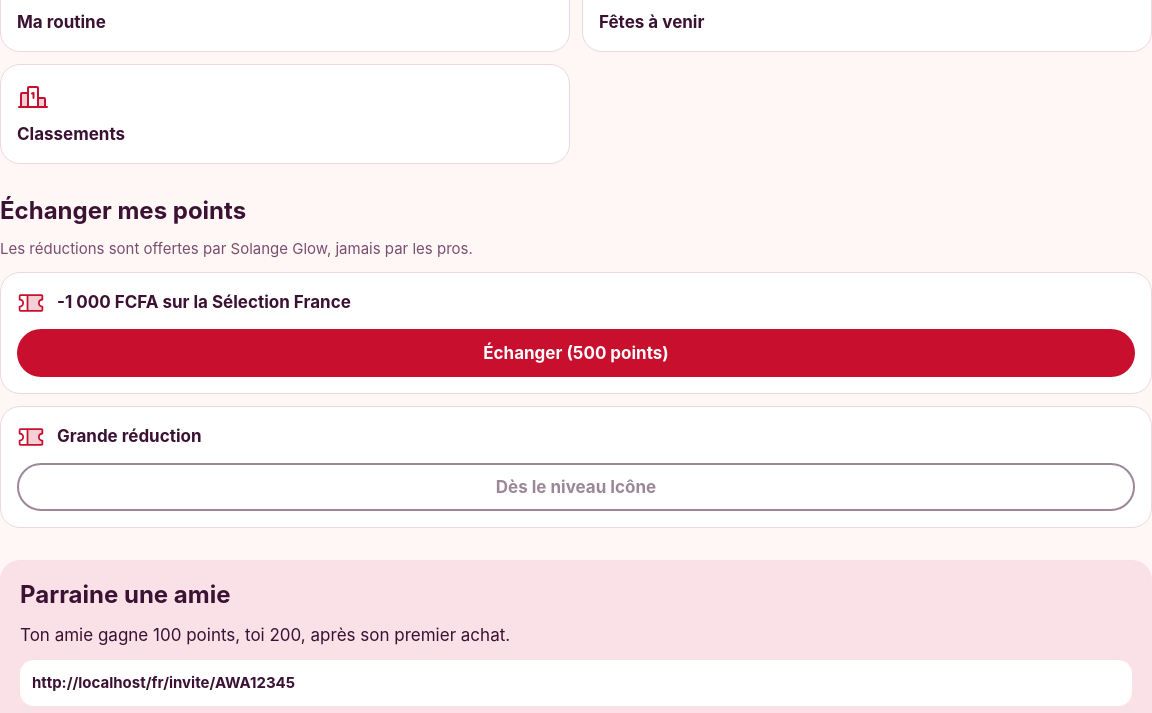
Scenario: MyPoints › shows the balance, the level, the streak and exchanges points
(page scrolled)
Expected: the button "Dès le niveau Icône" is disabled, [17, 463, 1135, 511]
Click the button "Échanger (500 points)".
click(576, 353)  # box [17, 329, 1135, 377]
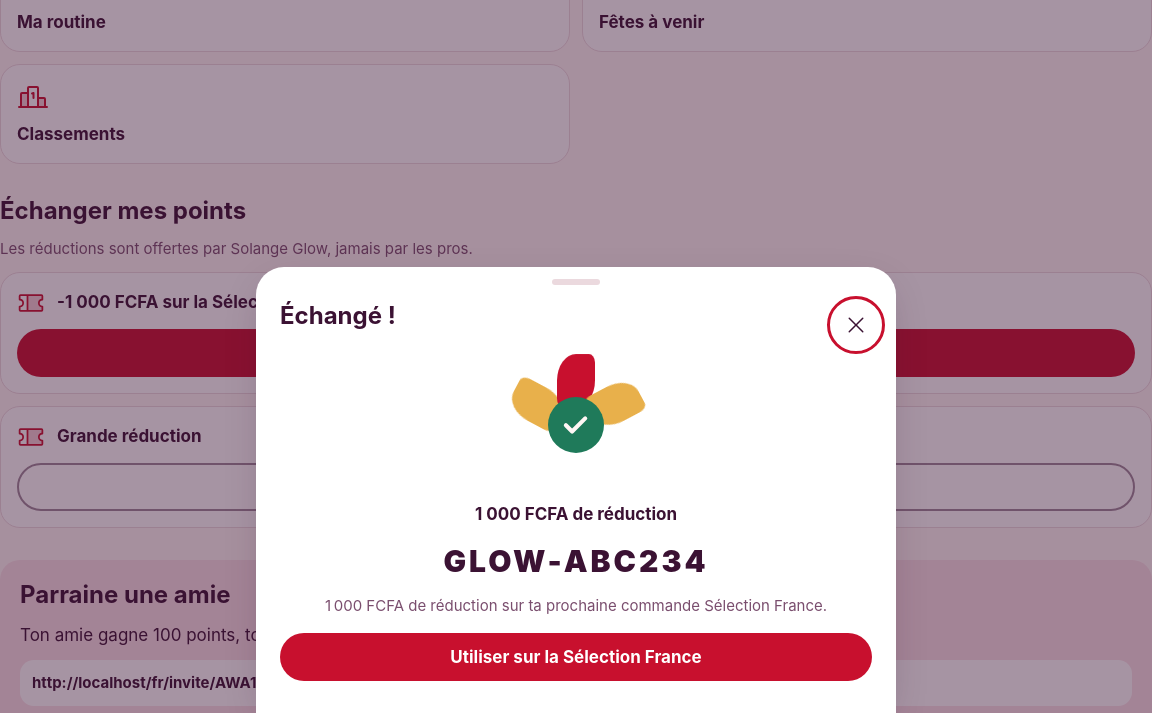
Result: the text "GLOW-ABC234" is shown at [443, 543, 709, 579]
